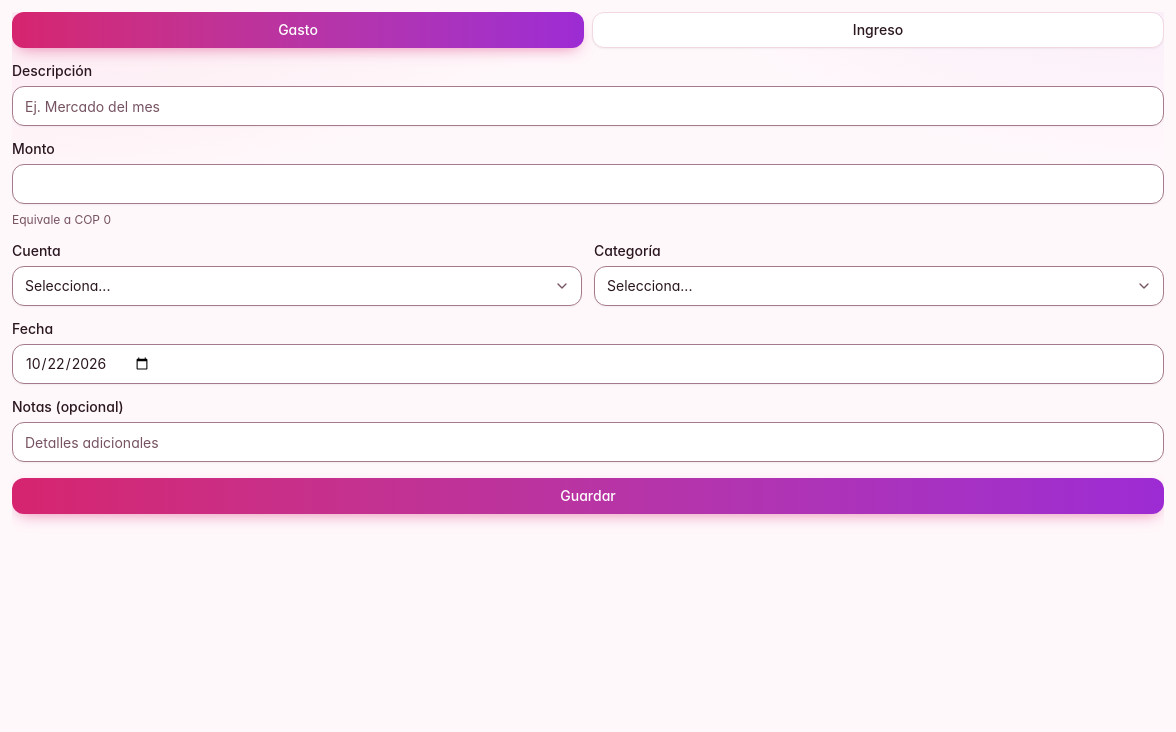
Test: TransactionForm › muestra el equivalente en la moneda de la cuenta elegida
Type "1500" into the field labelled "Monto" at (588, 184), box [12,164,1164,204]
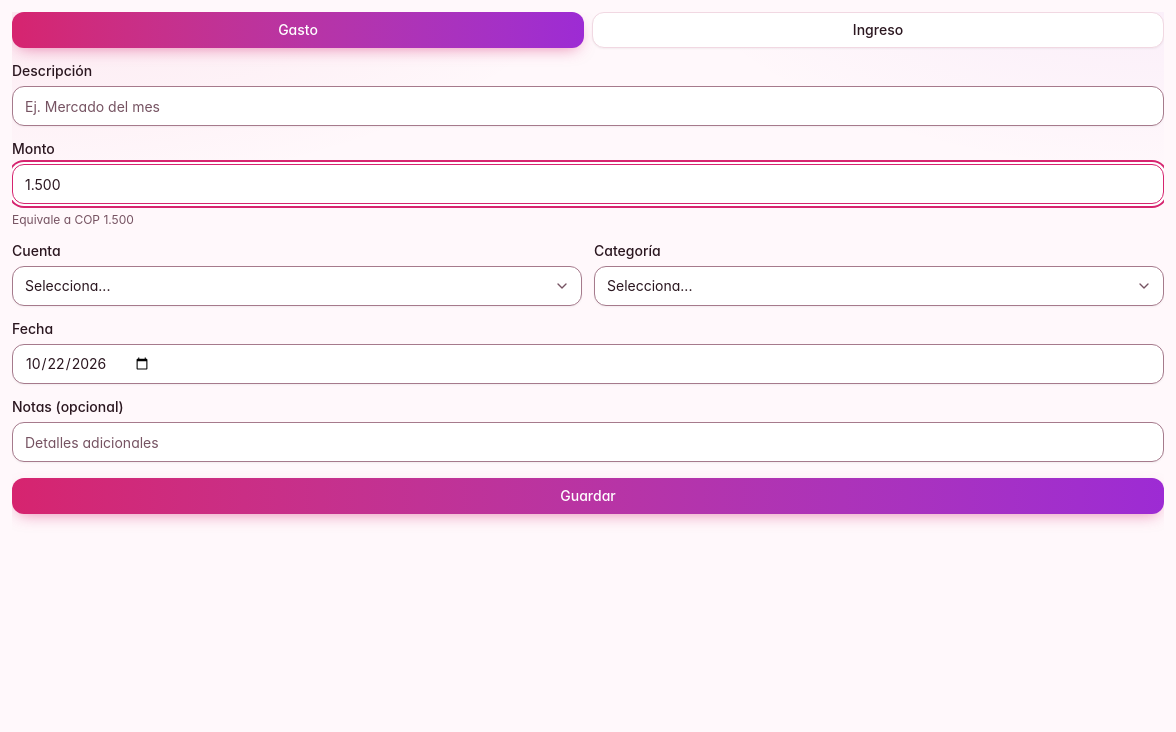
Now the text "Equivale a COP 1.500" is shown, box [12,212,134,227]
Select "Cuenta USD" in the dropdown labelled "Cuenta" at (297, 286), box [12,266,582,306]
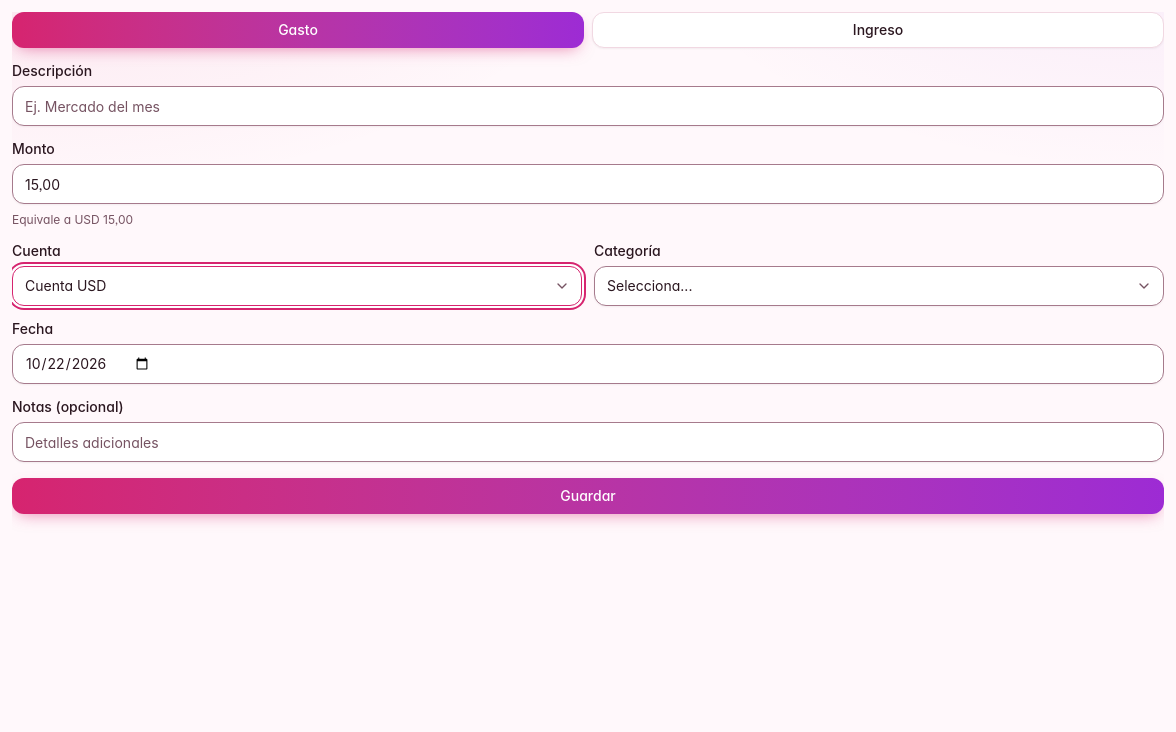
Now the text "Equivale a USD 15,00" is shown, box [12,212,133,227]
Select "Banco" in the dropdown labelled "Cuenta" at (297, 286), box [12,266,582,306]
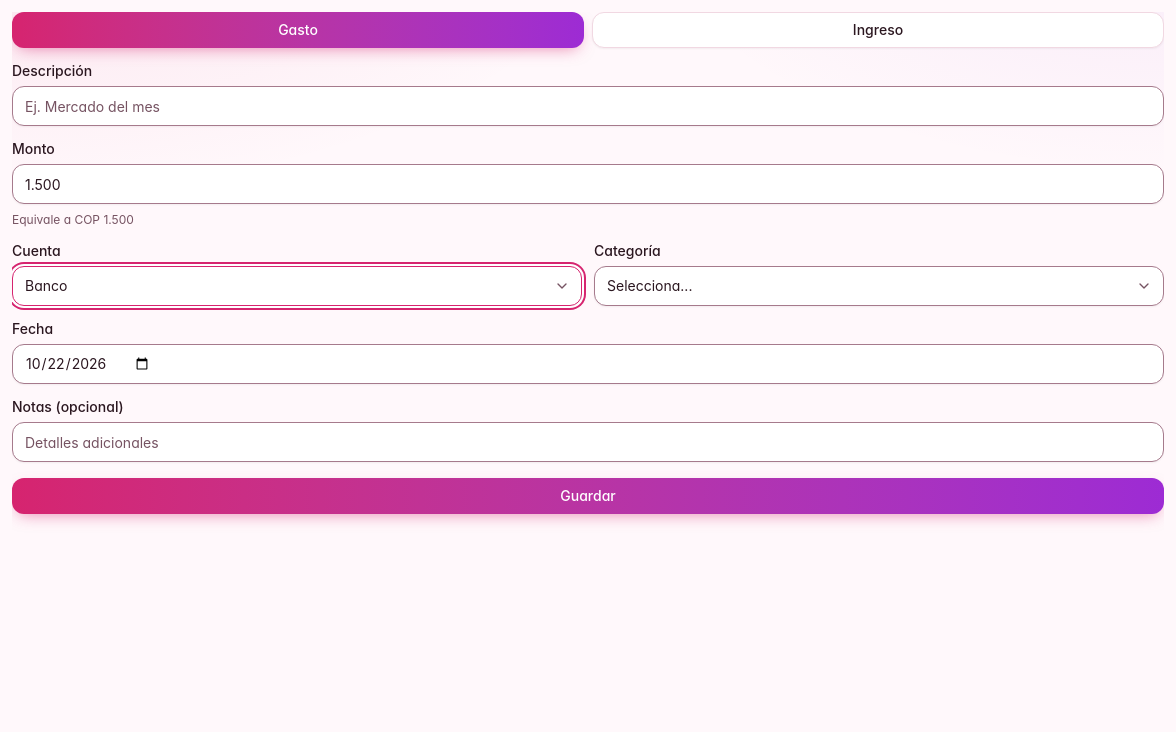
Now the text "Equivale a COP 1.500" is shown, box [12,212,134,227]
